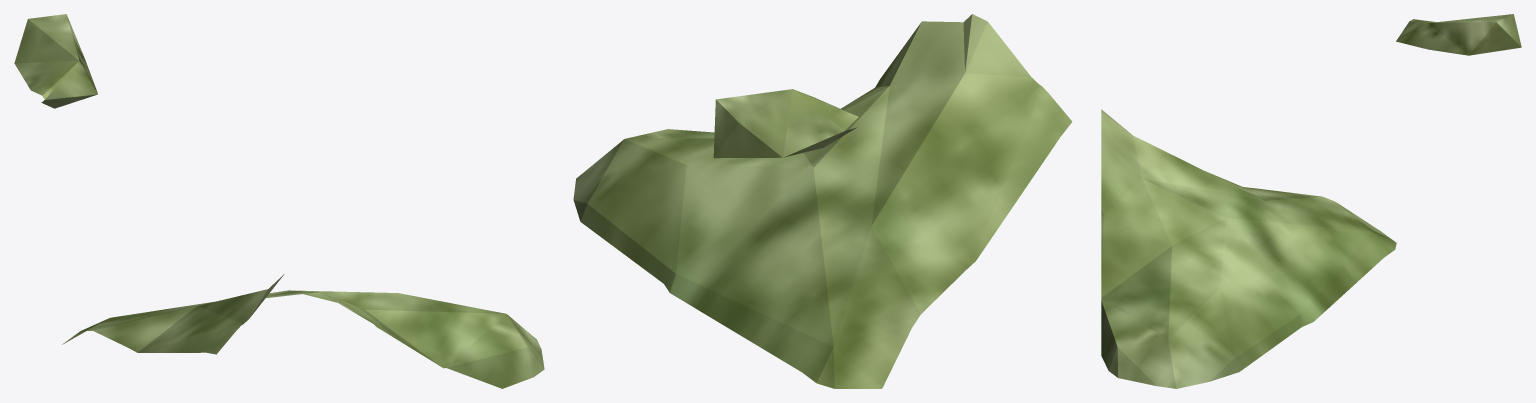
3 renders of one model, left to right at view 1: azimuth 30°, elevation 25°; view 2: azimuth 150°, elevation 25°; view 3: azimuth 270°, elevation 25°, orthographic. The views are drawn at different scales.
Size of the model in its own units: 0.5627 by 0.3951 by 0.6304.
1 material, 1 textured.
